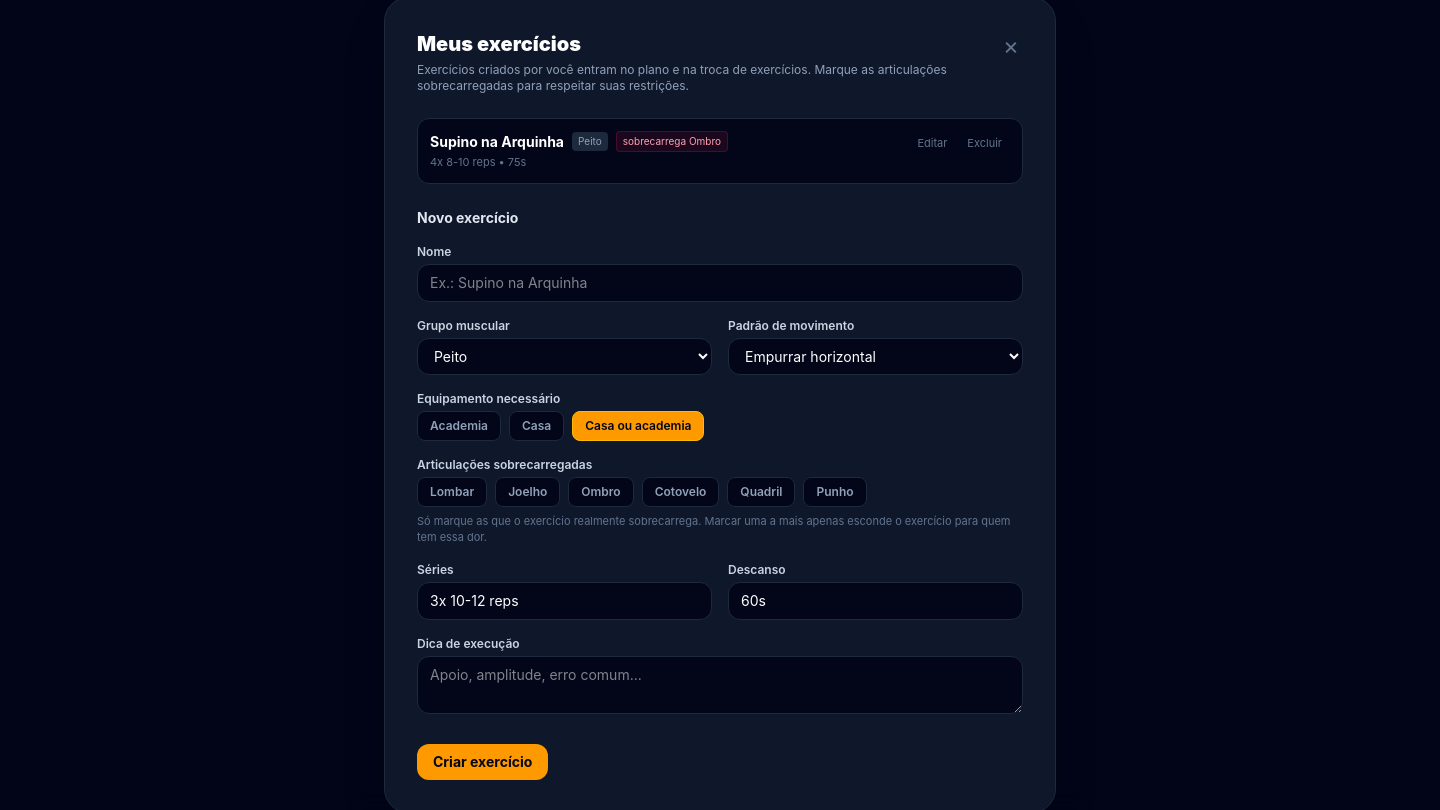
Test case: CustomExercisesModal — edição › cancelar edição volta ao formulário em branco
Click the button "Editar": (932, 144) [909,131,955,156]
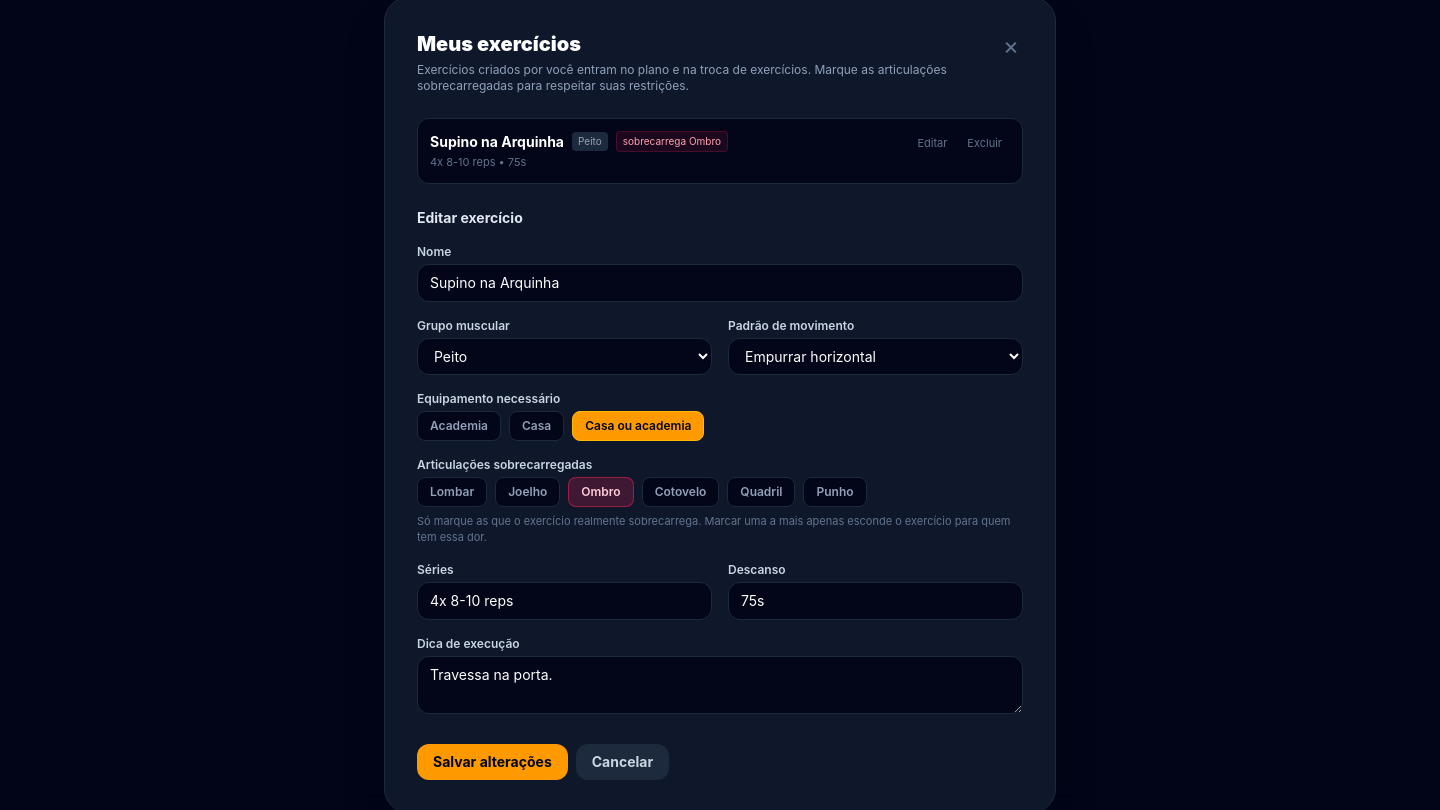
Click the button with id "btn-cancel-edit-custom": (622, 762) [576,744,669,780]
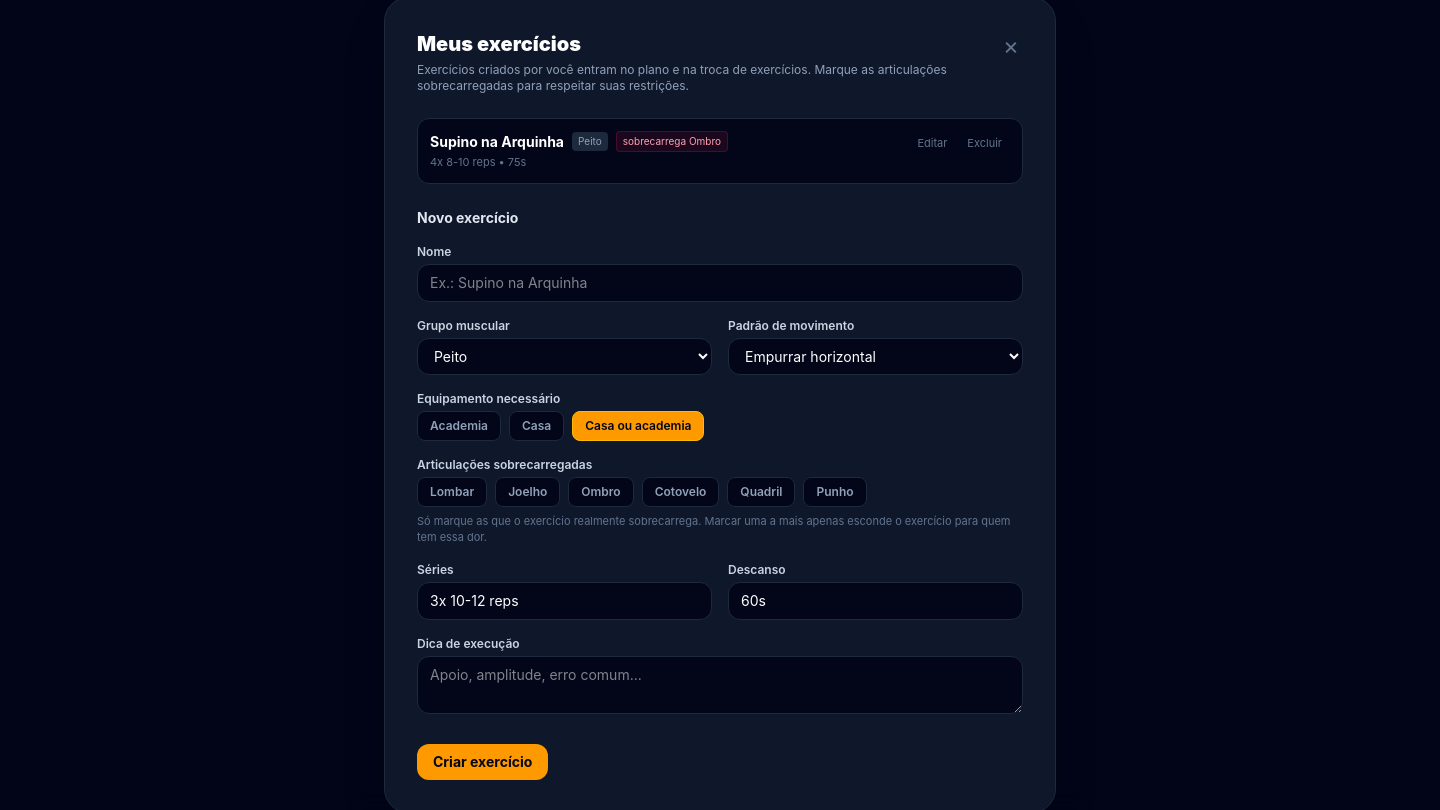
Result: the field with id "input-custom-name" is empty at [417,264,1023,302]
